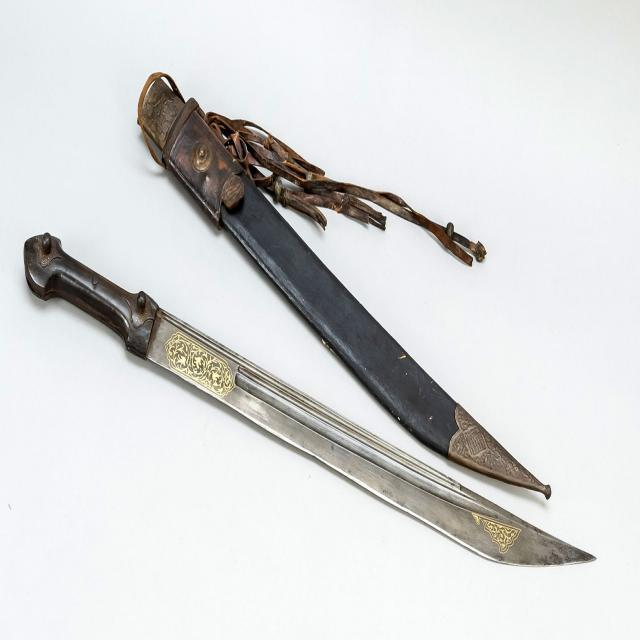short sword: (21, 212, 606, 576)
